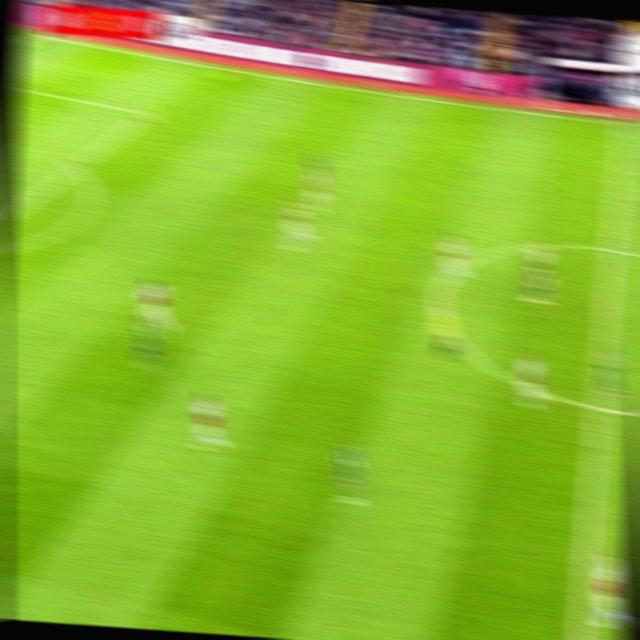bigarea_top_inner: (134, 100, 159, 122)
corner: (23, 26, 53, 44)
halfcircle_bottom: (578, 387, 616, 426)
halfcircle_top: (595, 234, 627, 264)
midline_top_intersection: (609, 108, 638, 136)
top_arc_area_intersection: (62, 154, 87, 178)
